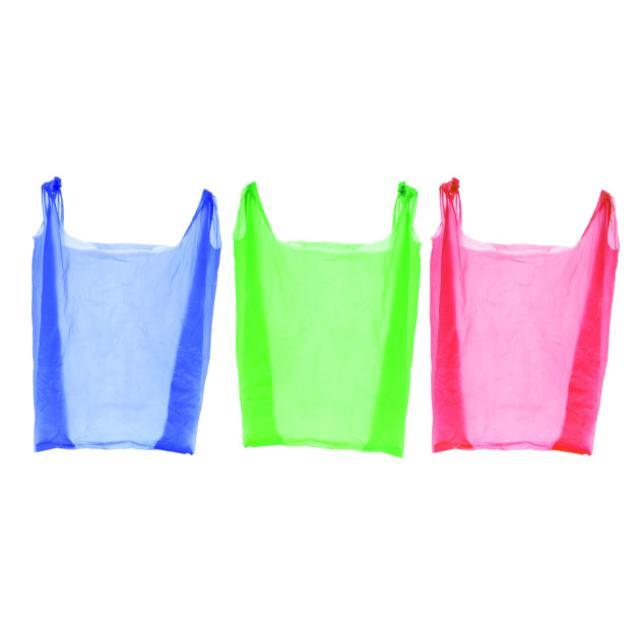Bolsa-de-plastico: (22, 185, 220, 452), (232, 195, 410, 450), (440, 190, 615, 447)
